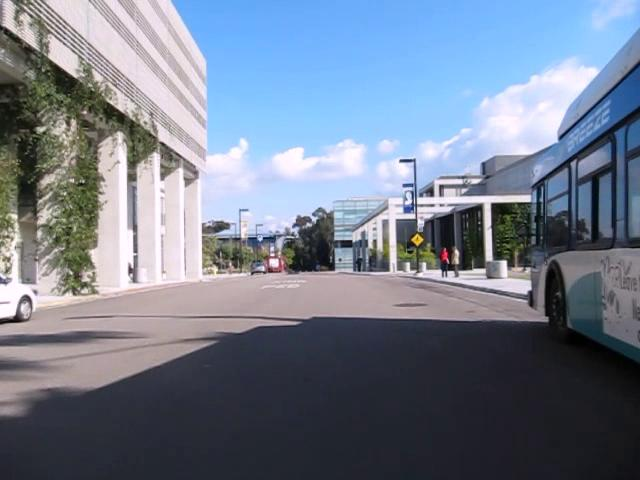pedestrianCrossing: (409, 232, 424, 247)
